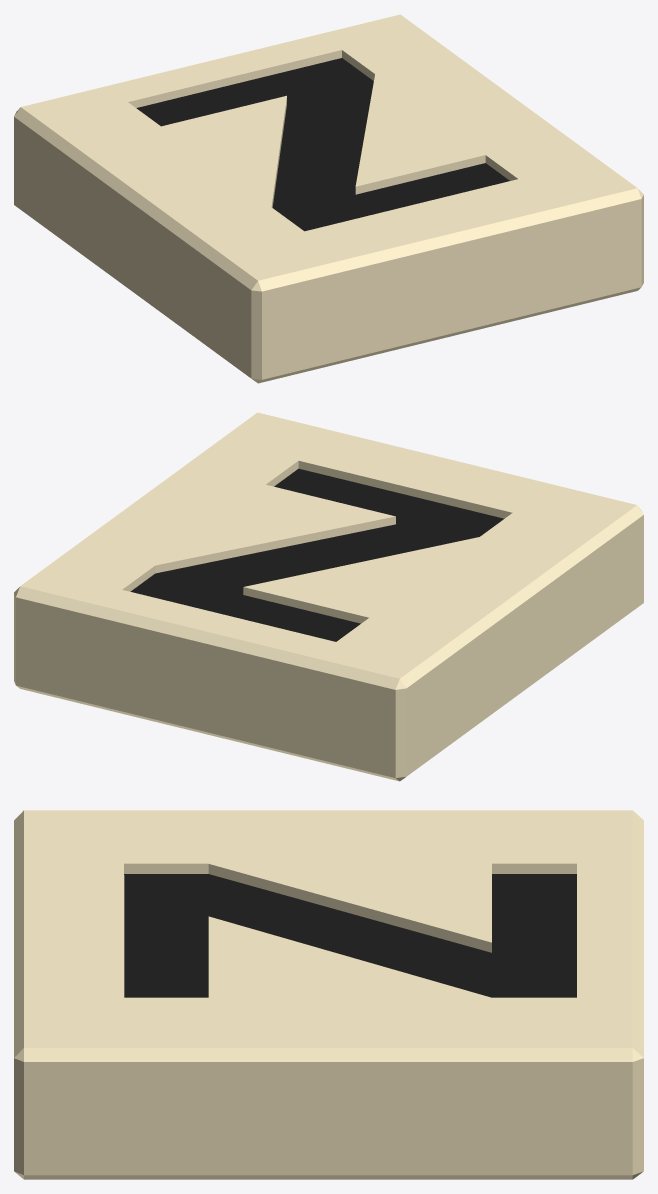
The model's file is Game_Anagram_Tile_Z_01.fbx.
3 renders of one model, top to bottom at view 1: azimuth 30°, elevation 25°; view 2: azimuth 150°, elevation 25°; view 3: azimuth 270°, elevation 25°, orthographic. The views are drawn at different scales.
Visible parts, largest first — view 1: Game_Anagram_Tile_Z_01; view 2: Game_Anagram_Tile_Z_01; view 3: Game_Anagram_Tile_Z_01.
Boxes of the visible parts, x1,y1,x2,y2 form: Game_Anagram_Tile_Z_01: (14, 14, 643, 383); Game_Anagram_Tile_Z_01: (14, 412, 643, 781); Game_Anagram_Tile_Z_01: (14, 810, 643, 1179).
Bounding box in the file's own units: 16.4 × 4.1 × 17.77.
